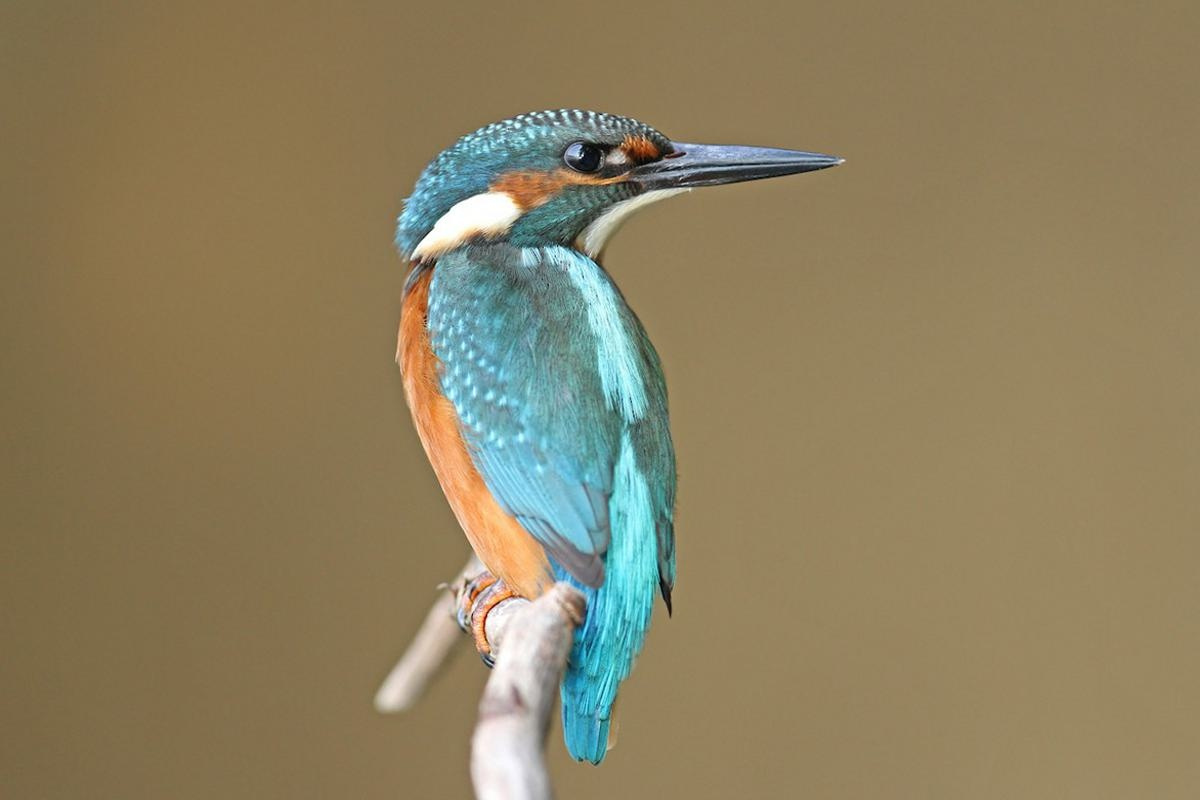kingfisher: (371, 94, 846, 741)
